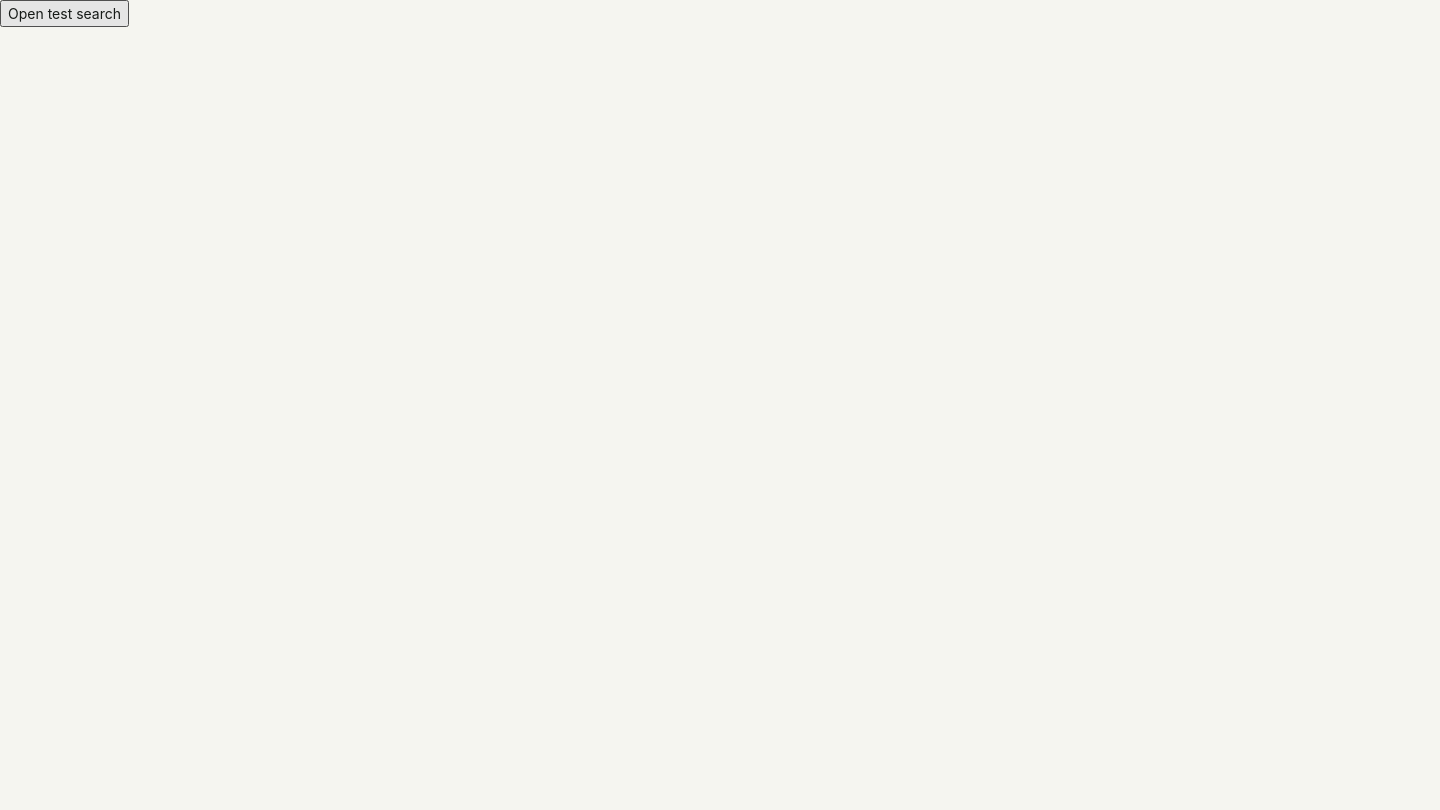
Test case: opens with Ctrl/Cmd+K, supports arrow navigation and Enter opens the selected route
Press k
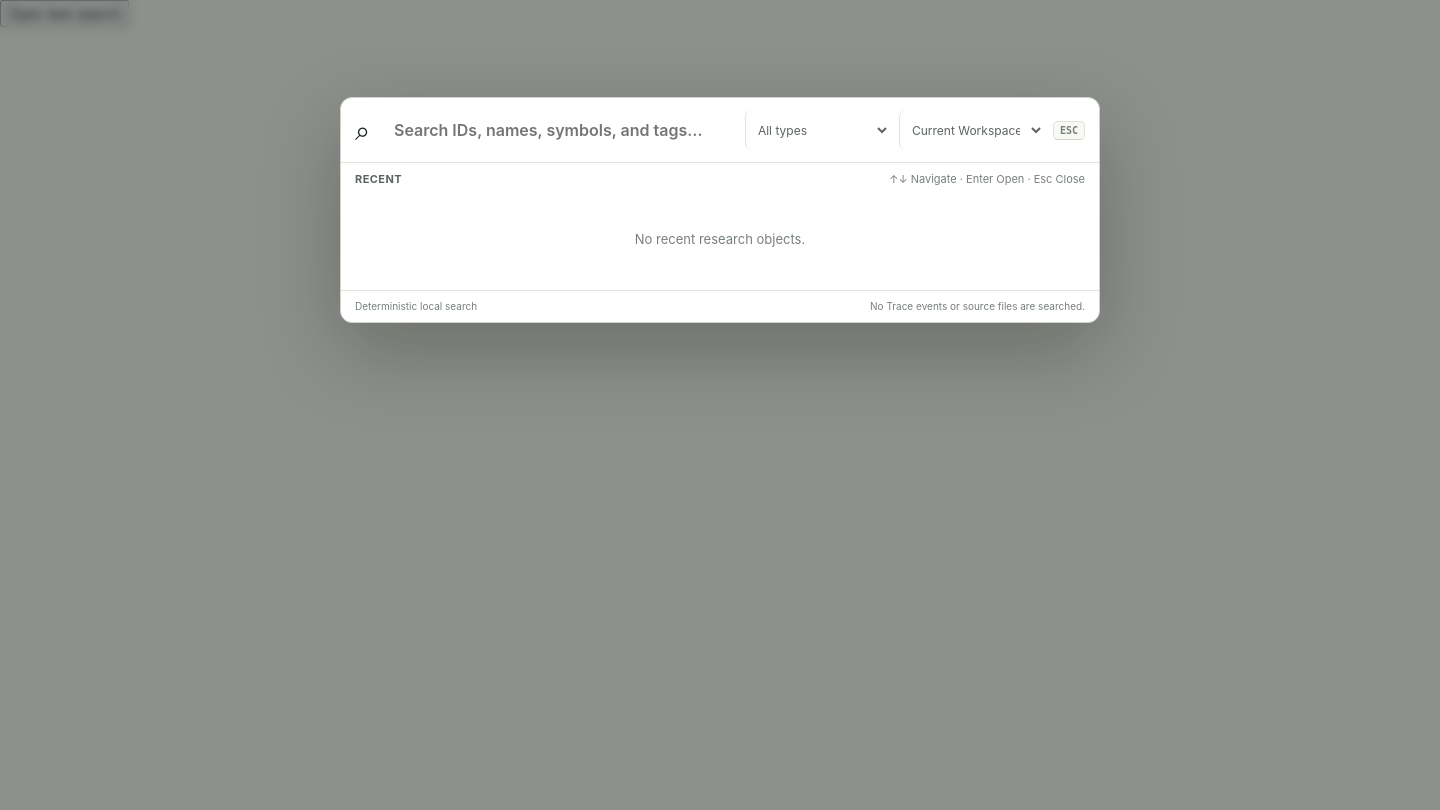
Type "momentum" into the field named "Search research workspace" at (564, 130), box top-left (392, 110), bottom-right (736, 150)
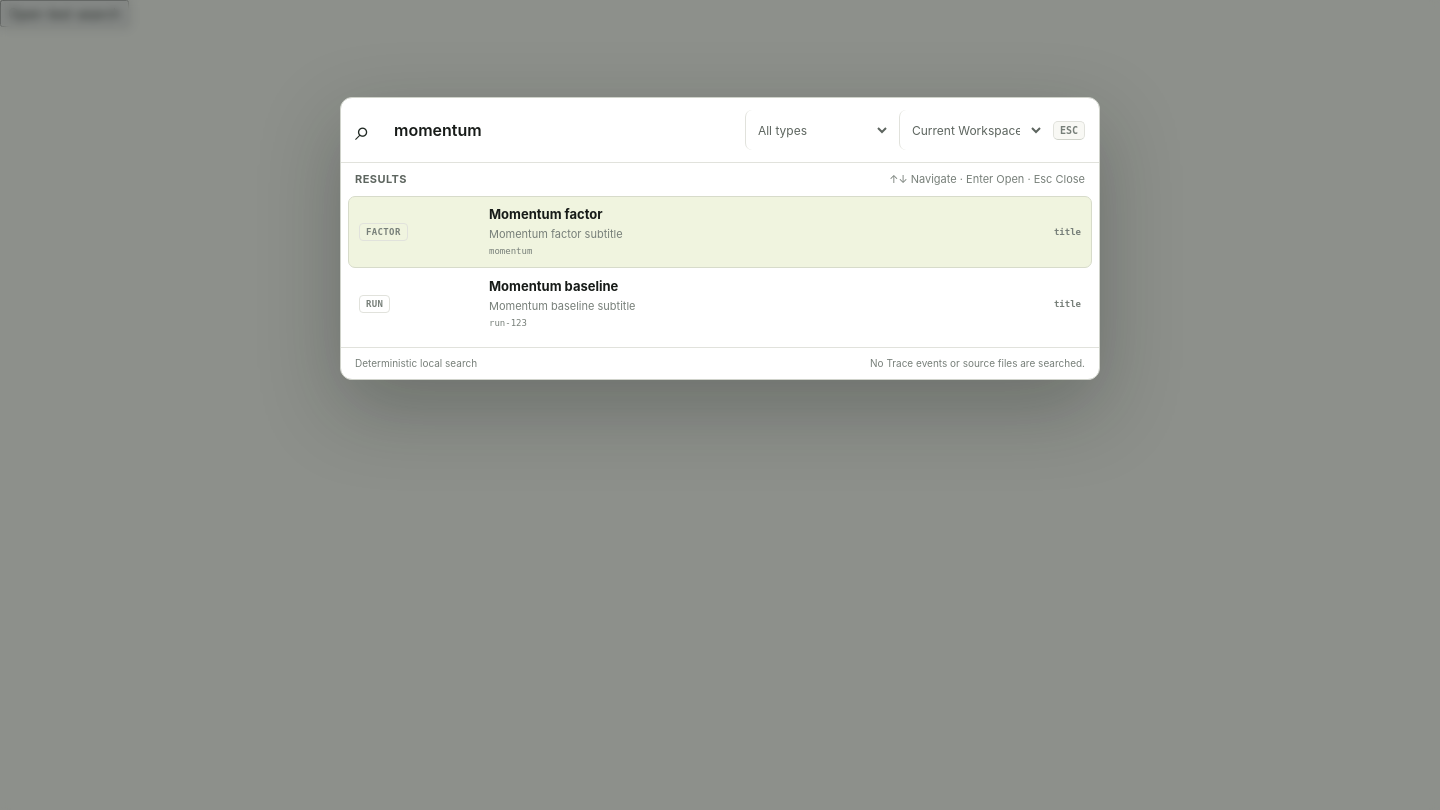
Result: the text "Momentum baseline" is shown at top-left (489, 278), bottom-right (618, 294)
Press ArrowDown in the field named "Search research workspace", box top-left (392, 110), bottom-right (736, 150)
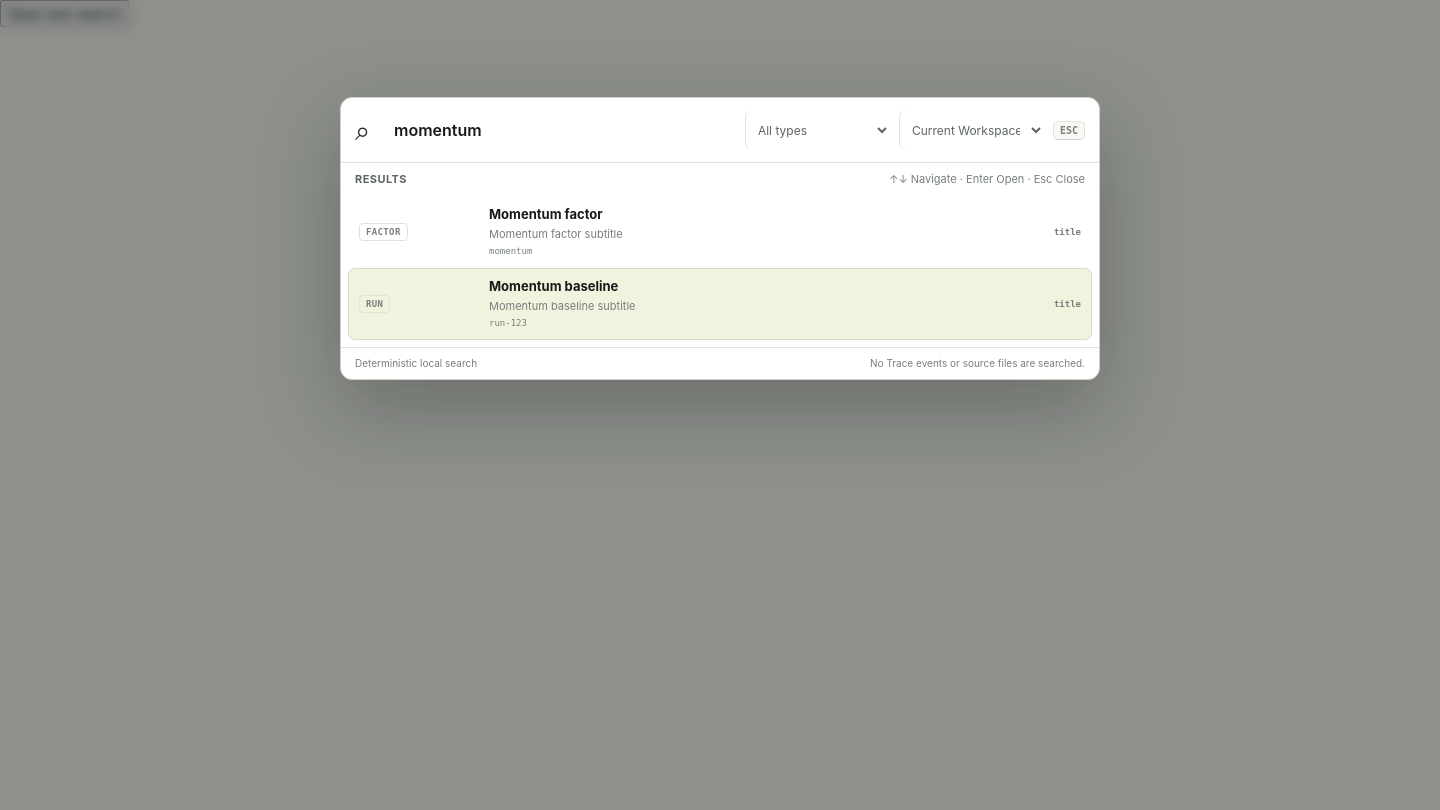
Press Enter in the field named "Search research workspace", box top-left (392, 110), bottom-right (736, 150)
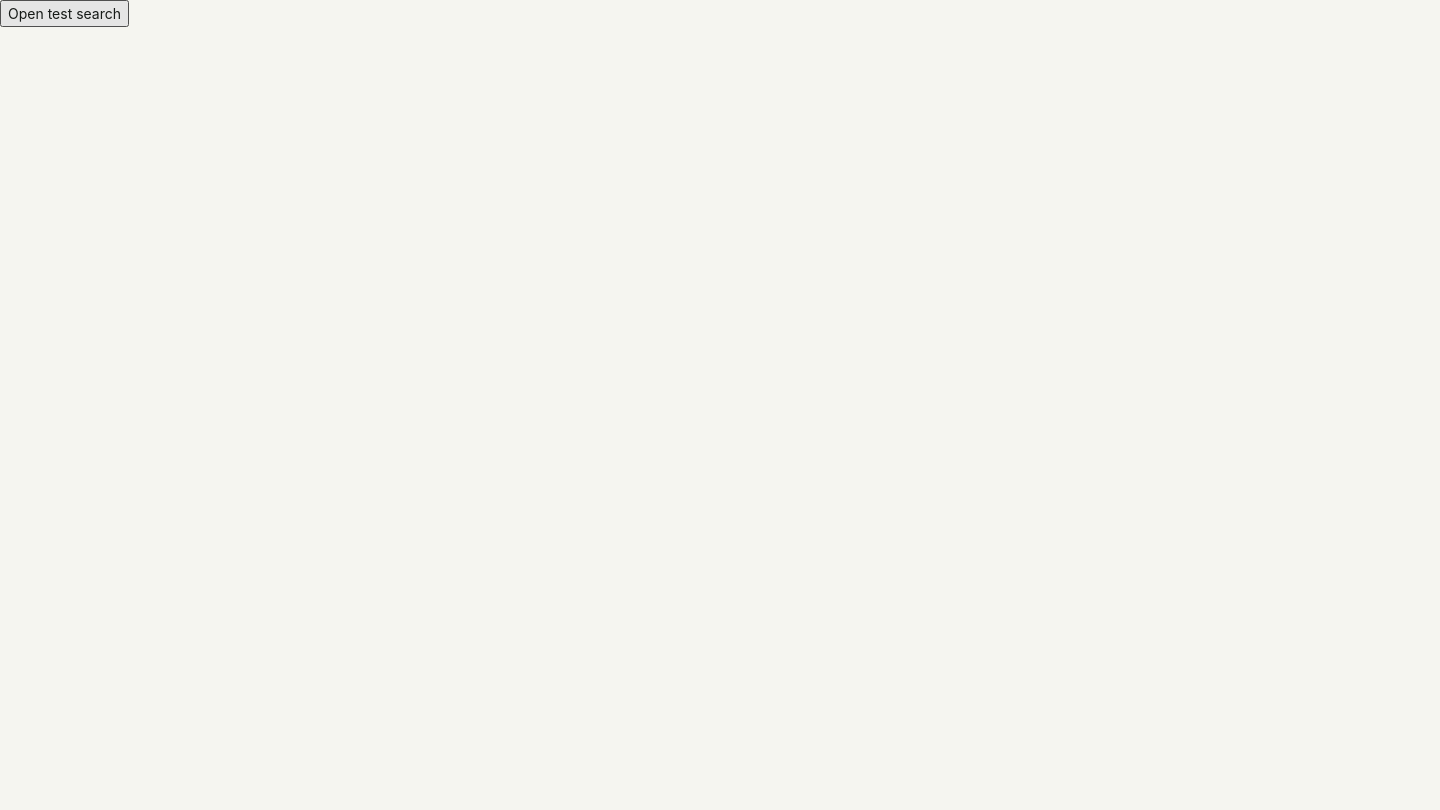
Result: the dialog is gone
Press k
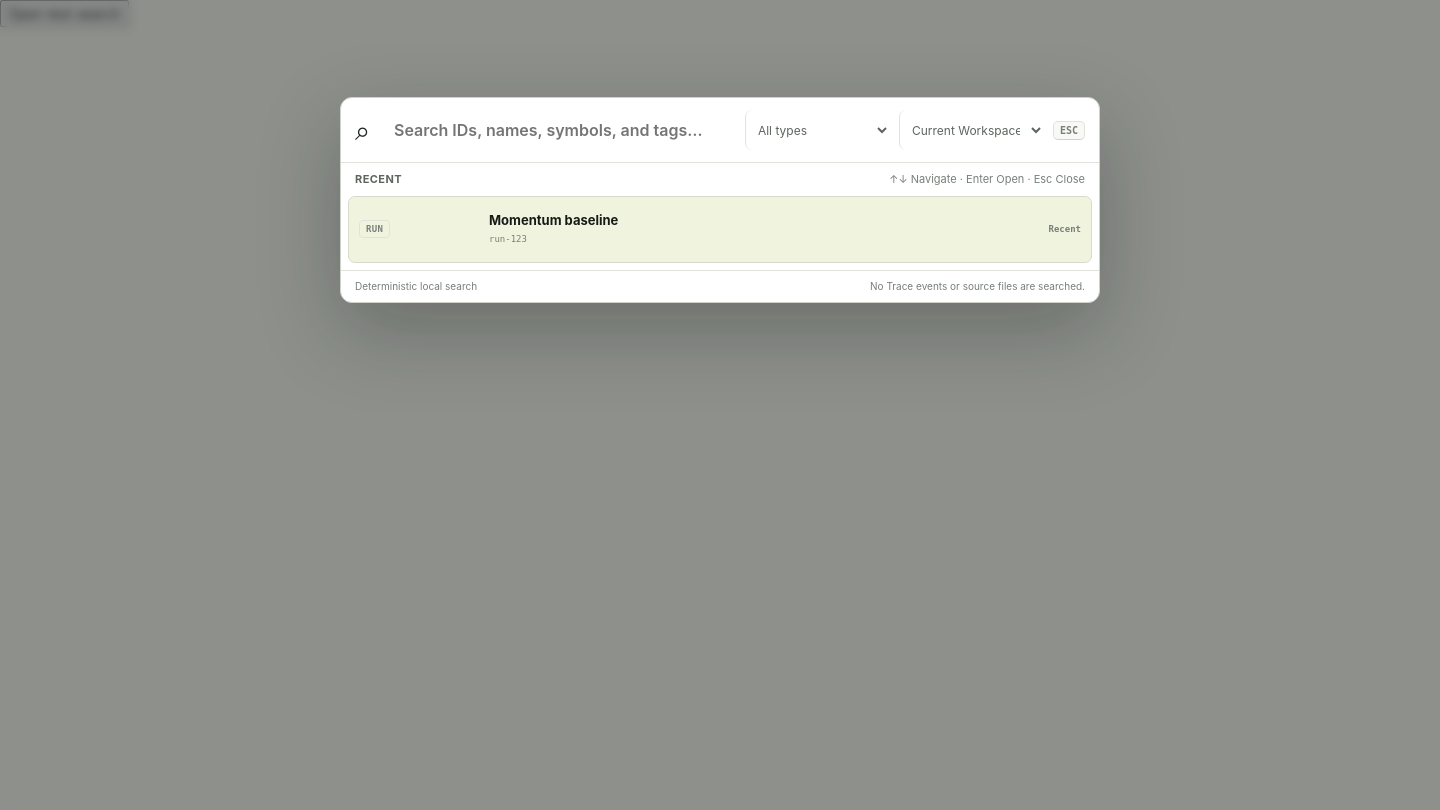
Result: the dialog named "Global Search" is shown at top-left (340, 97), bottom-right (1100, 303)
